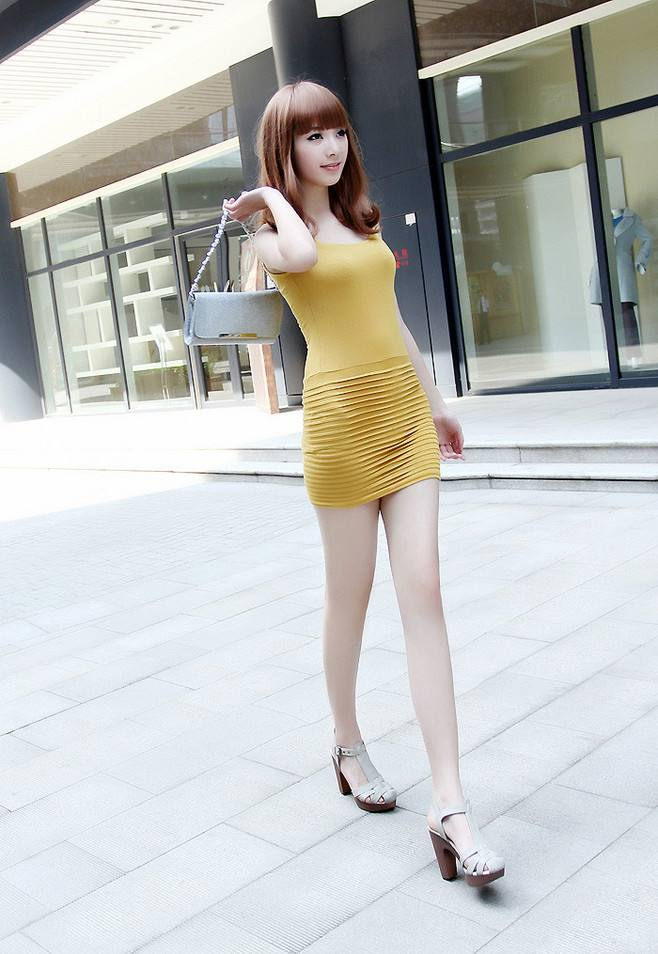person: (188, 86, 578, 821)
